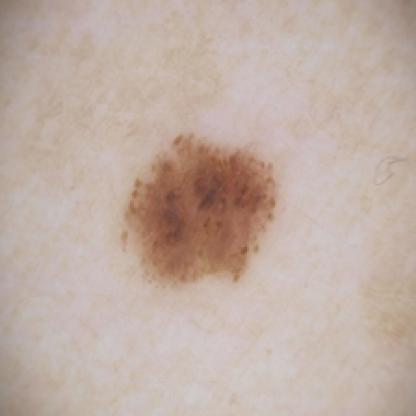benign: (124, 124, 280, 288)
